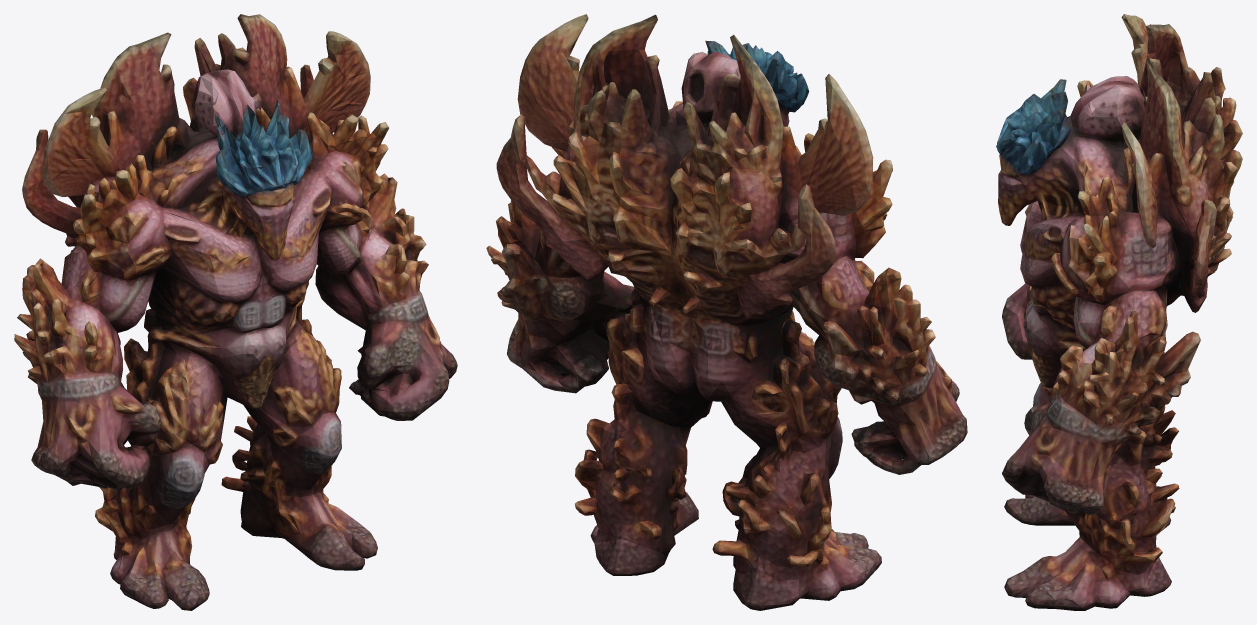
Rendered from coralColossus.glb.
The picture shows the model from 3 angles, left to right: view 1: azimuth 30°, elevation 25°; view 2: azimuth 150°, elevation 25°; view 3: azimuth 270°, elevation 25°; orthographic projection. The views are drawn at different scales.
Visible parts, largest first — view 1: world; view 2: world; view 3: world.
Boxes of the visible parts, left/top/right/bottom form: world: left=14, top=14, right=457, bottom=610; world: left=486, top=14, right=967, bottom=610; world: left=996, top=14, right=1242, bottom=610.
Size of the model in its own units: 0.8316 by 0.9986 by 0.4327.
Materials: 1 (1 with a texture image).
